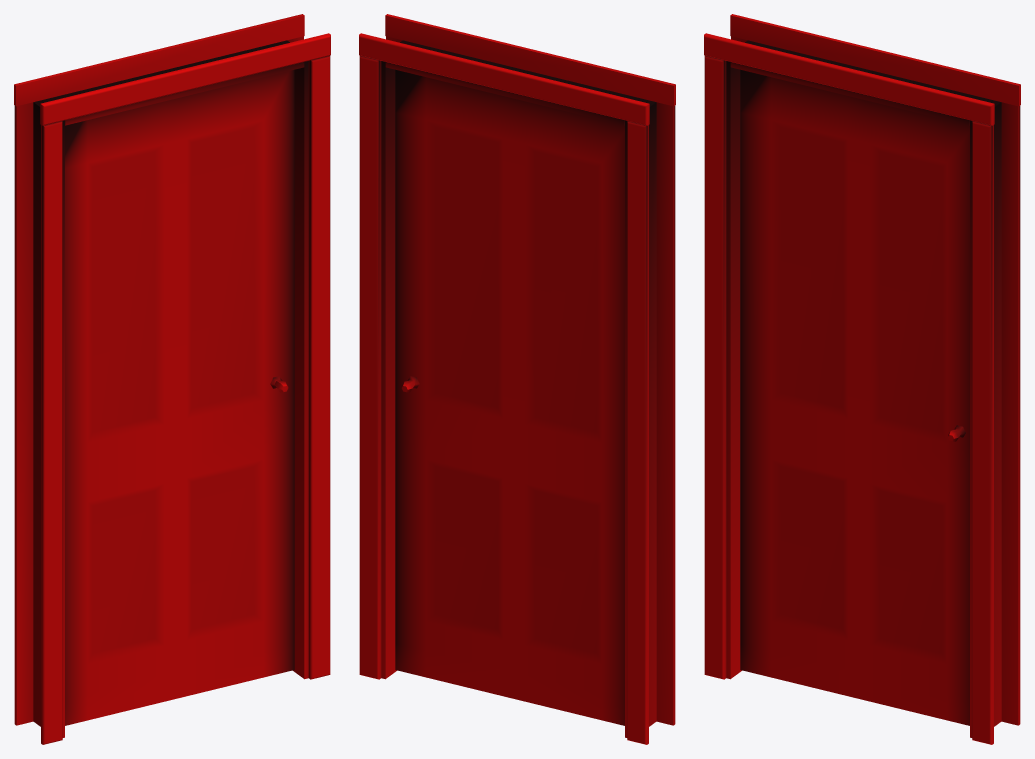
The model's file is CI_Shell_Door_Panel.glb.
3 views of the same model, side by side, from view 1: azimuth 30°, elevation 25°; view 2: azimuth 150°, elevation 25°; view 3: azimuth 330°, elevation 25° (orthographic).
Parts seen in each view (by area): view 1: CI_Shell_Door_Panel; view 2: CI_Shell_Door_Panel; view 3: CI_Shell_Door_Panel.
Boxes of the visible parts, box(x1,y1,x2,y2) form: CI_Shell_Door_Panel: box(14, 14, 330, 744); CI_Shell_Door_Panel: box(359, 14, 675, 744); CI_Shell_Door_Panel: box(704, 14, 1020, 744).
Size of the model in its own units: 1.02 by 2.17 by 0.186.
